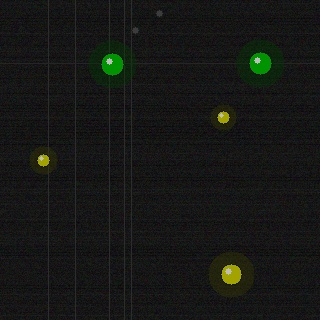green_normal: (99, 51, 125, 77), (247, 50, 273, 76)
yellow_warning: (219, 262, 243, 286), (35, 152, 51, 168), (215, 109, 231, 125)
